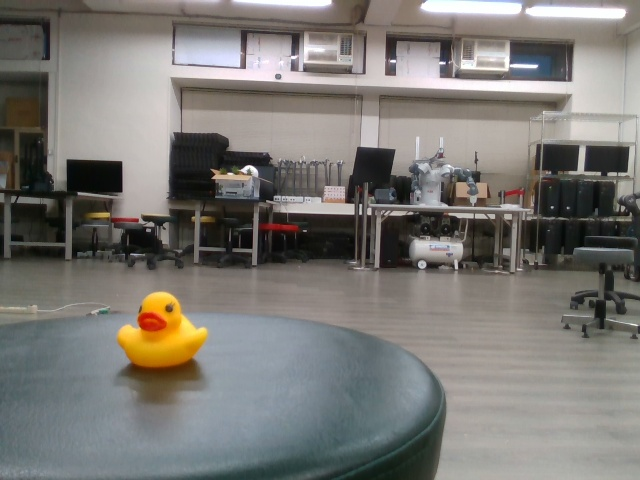duck: (114, 288, 214, 371)
